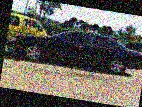car: (5, 19, 142, 79), (8, 12, 49, 38)
